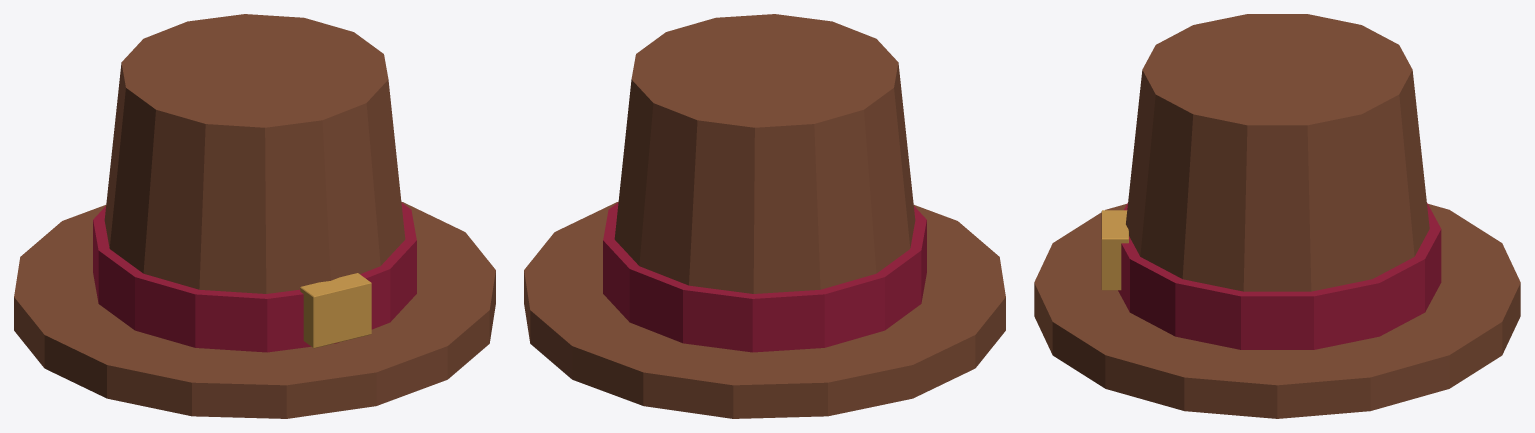
The model's file is prop_tophat.glb.
3 renders of one model, left to right at view 1: azimuth 30°, elevation 25°; view 2: azimuth 150°, elevation 25°; view 3: azimuth 270°, elevation 25°, orthographic.
Parts seen in each view (by area): view 1: hat_crown, hat_brim, hat_band, hat_buckle; view 2: hat_crown, hat_brim, hat_band; view 3: hat_crown, hat_brim, hat_band, hat_buckle.
Boxes of the visible parts, box(x1,y1,x2,y2) form: hat_crown: box(104, 14, 405, 293); hat_brim: box(14, 201, 495, 418); hat_band: box(93, 202, 416, 352); hat_buckle: box(300, 273, 371, 348); hat_crown: box(614, 14, 915, 293); hat_brim: box(524, 201, 1005, 418); hat_band: box(603, 202, 926, 352); hat_crown: box(1126, 14, 1429, 291); hat_brim: box(1034, 204, 1520, 418); hat_band: box(1118, 203, 1441, 349); hat_buckle: box(1101, 210, 1128, 290).
Bounding box in the file's own units: 1.44 × 0.805 × 1.44.
